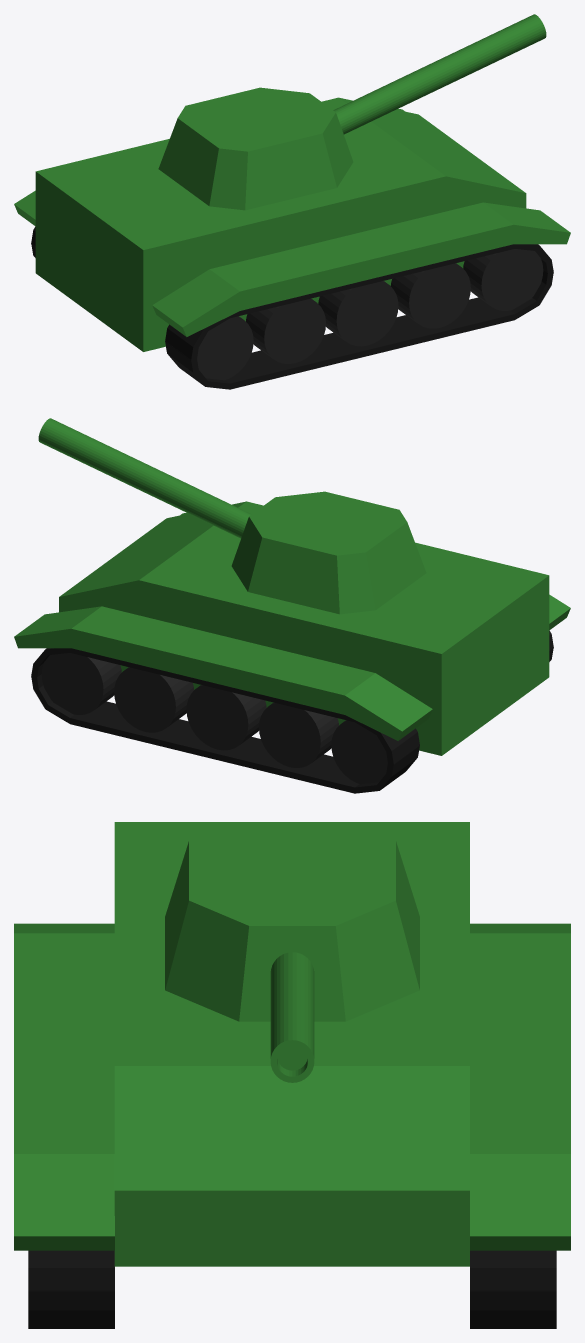
The model's file is tank.glb.
3 renders of one model, top to bottom at view 1: azimuth 30°, elevation 25°; view 2: azimuth 150°, elevation 25°; view 3: azimuth 270°, elevation 25°, orthographic. The views are drawn at different scales.
Visible parts, largest first — view 1: custMat1Main, custMat1Cube, CannonHolder, Wheels, Tracks, Cannon; view 2: custMat1Main, custMat1Cube, CannonHolder, Wheels, Tracks, Cannon; view 3: custMat1Main, custMat1Cube, CannonHolder, Tracks, Cannon.
Part boxes in pixels (left/top/right/bottom): custMat1Main: left=35, top=97, right=526, bottom=351; custMat1Cube: left=14, top=108, right=570, bottom=336; CannonHolder: left=158, top=87, right=353, bottom=210; Wheels: left=197, top=249, right=543, bottom=380; Tracks: left=31, top=226, right=553, bottom=389; Cannon: left=333, top=14, right=546, bottom=134; custMat1Main: left=59, top=501, right=549, bottom=755; custMat1Cube: left=14, top=512, right=570, bottom=740; CannonHolder: left=231, top=491, right=426, bottom=614; Wheels: left=41, top=653, right=387, bottom=784; Tracks: left=31, top=630, right=553, bottom=793; Cannon: left=38, top=418, right=251, bottom=538; custMat1Main: left=114, top=822, right=469, bottom=1266; custMat1Cube: left=14, top=923, right=570, bottom=1250; CannonHolder: left=165, top=825, right=419, bottom=1021; Tracks: left=28, top=1250, right=556, bottom=1328; Cannon: left=270, top=952, right=314, bottom=1082.
Bounding box in the file's own units: 8.82 × 4.13 × 5.7.
